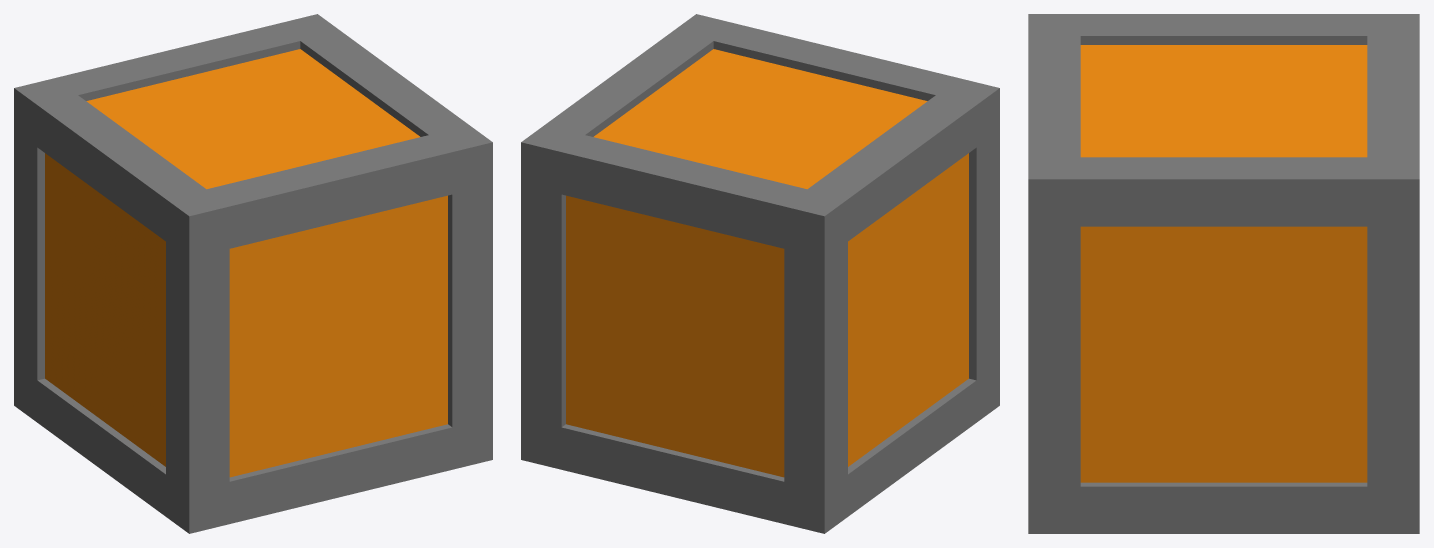
The model's file is Block.fbx.
The picture shows the model from 3 angles, left to right: view 1: azimuth 30°, elevation 25°; view 2: azimuth 150°, elevation 25°; view 3: azimuth 270°, elevation 25°; orthographic projection. The views are drawn at different scales.
Parts seen in each view (by area): view 1: Basic_Cube; view 2: Basic_Cube; view 3: Basic_Cube.
Boxes of the visible parts, x1,y1,x2,y2 form: Basic_Cube: (14,14,492,533); Basic_Cube: (521,14,999,533); Basic_Cube: (1028,14,1419,533).
Size of the model in its own units: 1 by 1 by 1.
2 materials, 2 textured.
